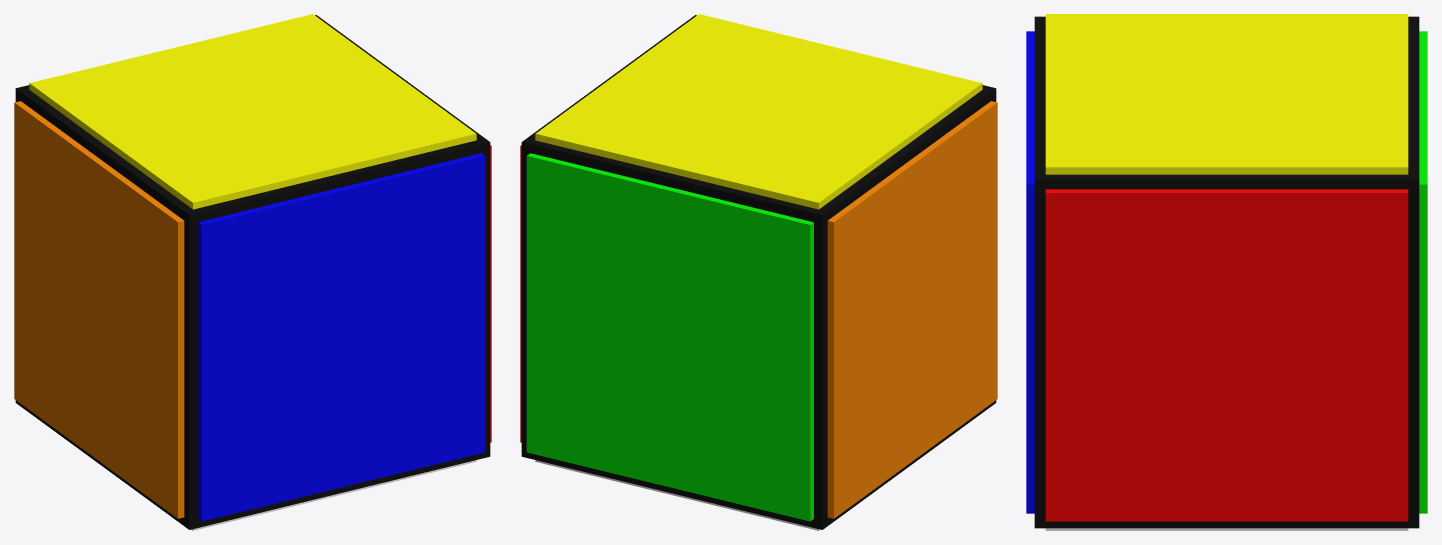
The model's file is Single Cube.fbx.
The picture shows the model from 3 angles, left to right: view 1: azimuth 30°, elevation 25°; view 2: azimuth 150°, elevation 25°; view 3: azimuth 270°, elevation 25°; orthographic projection. The views are drawn at different scales.
Visible parts, largest first — view 1: Cube; view 2: Cube; view 3: Cube.
Part boxes in pixels (<box>): Cube: <box>14,14,491,530</box>; Cube: <box>520,14,997,530</box>; Cube: <box>1026,14,1427,530</box>.
Size of the model in its own units: 209 by 209 by 209.
Materials: 1 (1 with a texture image).
